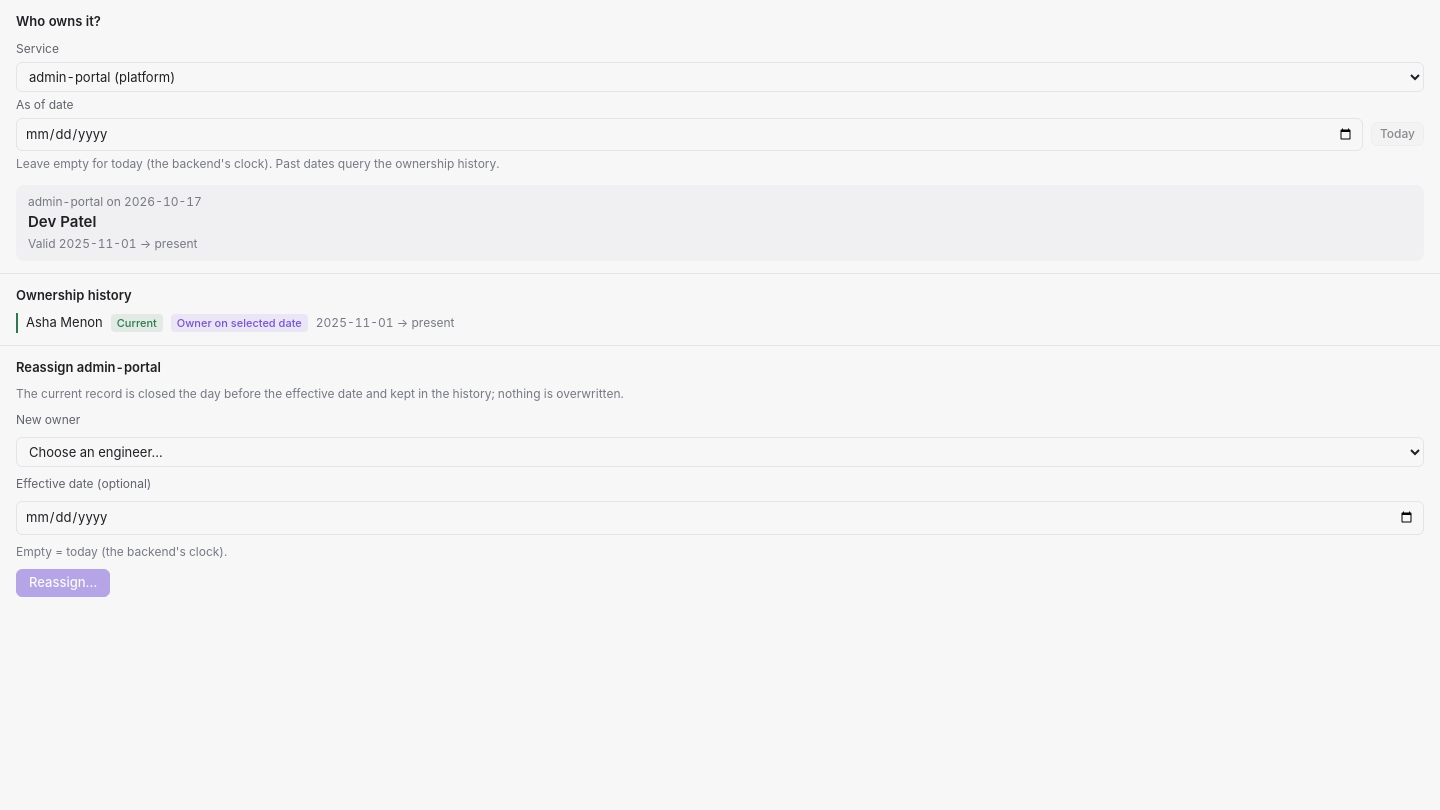
it: OwnersPanel service selection and the demo sequence › queries the service the user picks, and the reassign form follows it
Expected: the text "Dev Patel" is shown, left=28, top=212, right=96, bottom=231
Expected: the heading "Reassign admin-portal" is shown, left=16, top=358, right=161, bottom=374
Select "payments-api (payments-platform)" in the dropdown labelled "Service" at point(720, 76), box left=16, top=62, right=1424, bottom=92
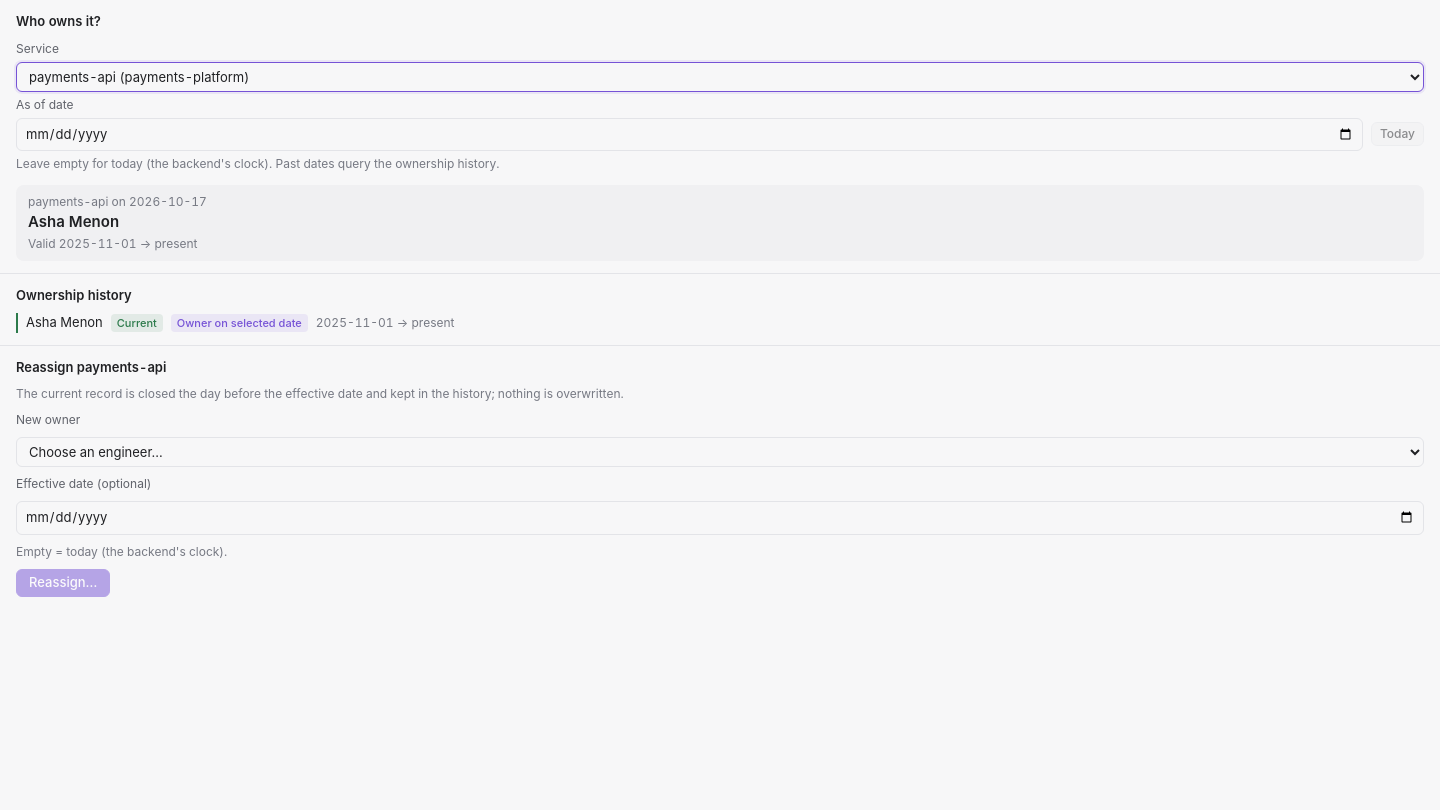
Expected: the text "Asha Menon" below "2026-10-17" is shown, left=28, top=212, right=119, bottom=231
Expected: the heading "Reassign payments-api" is shown, left=16, top=358, right=166, bottom=374
